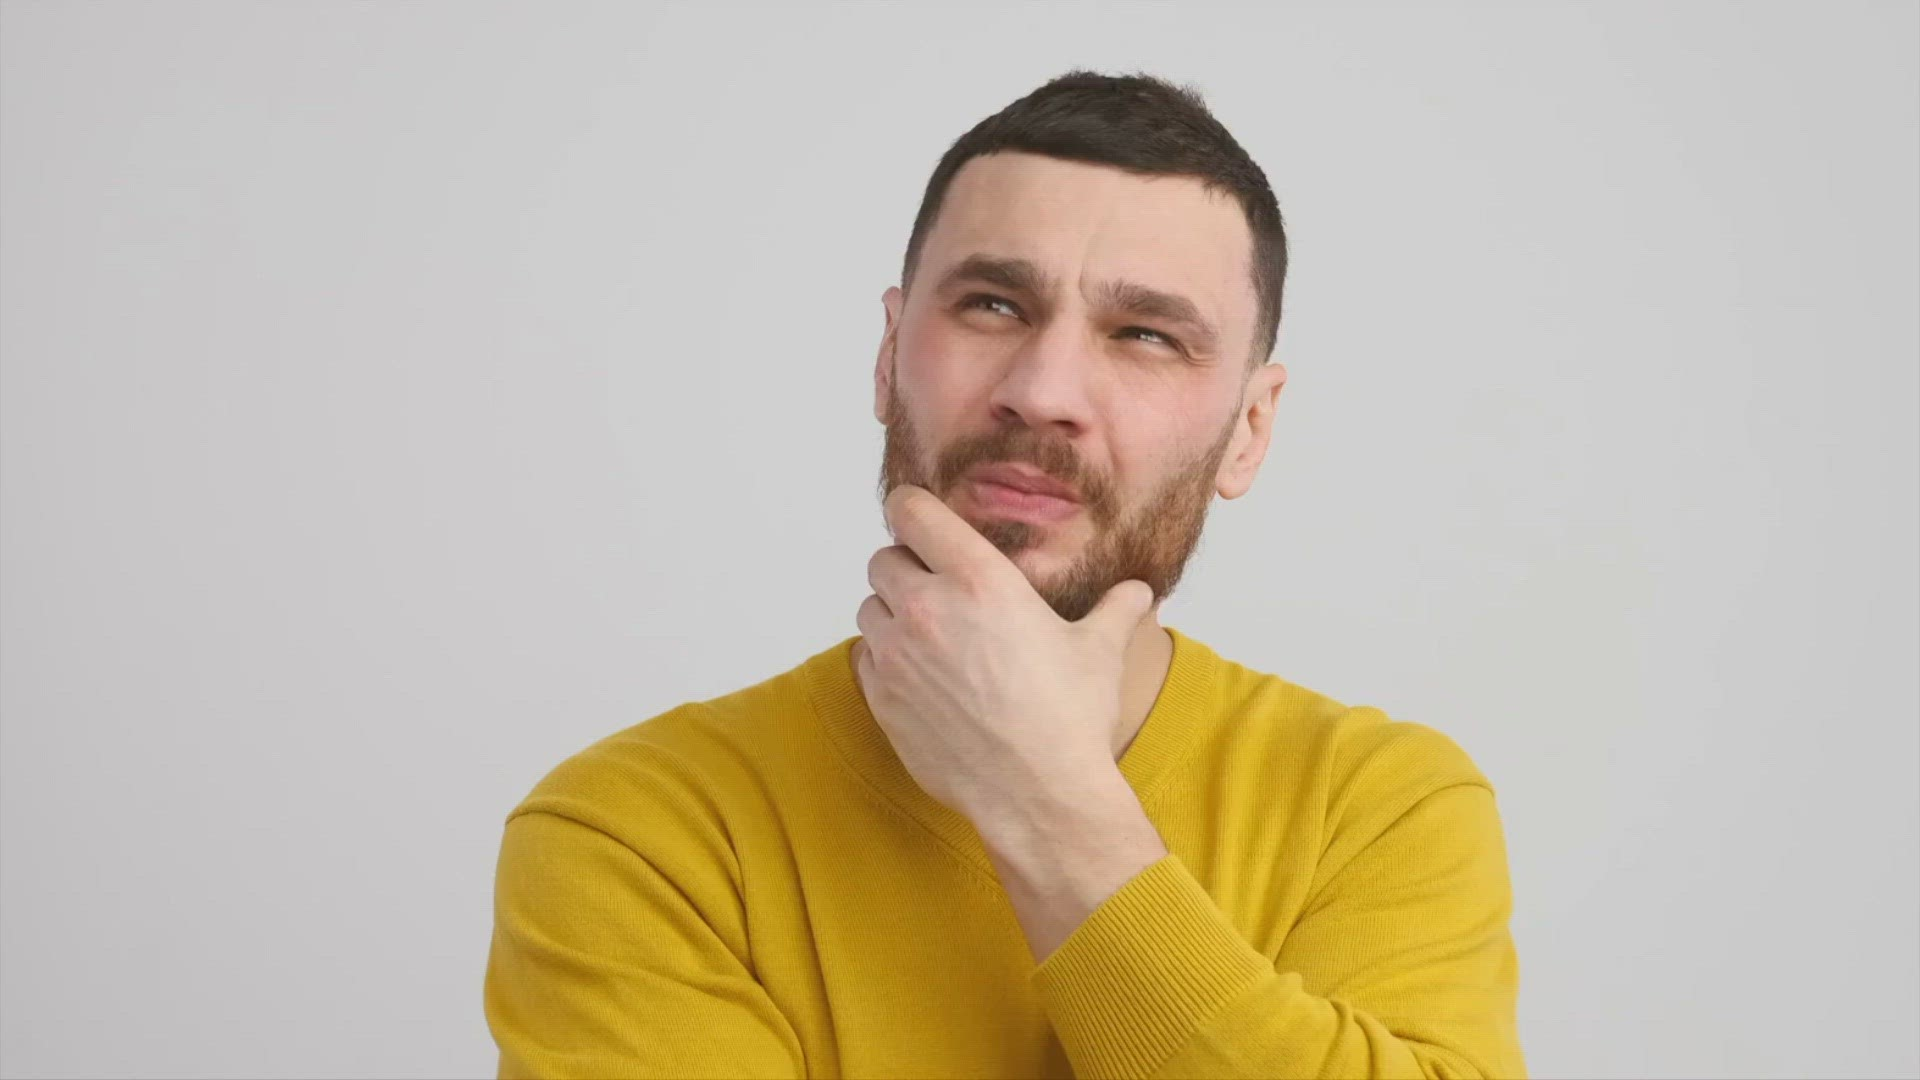person: (487, 27, 1550, 1080)
